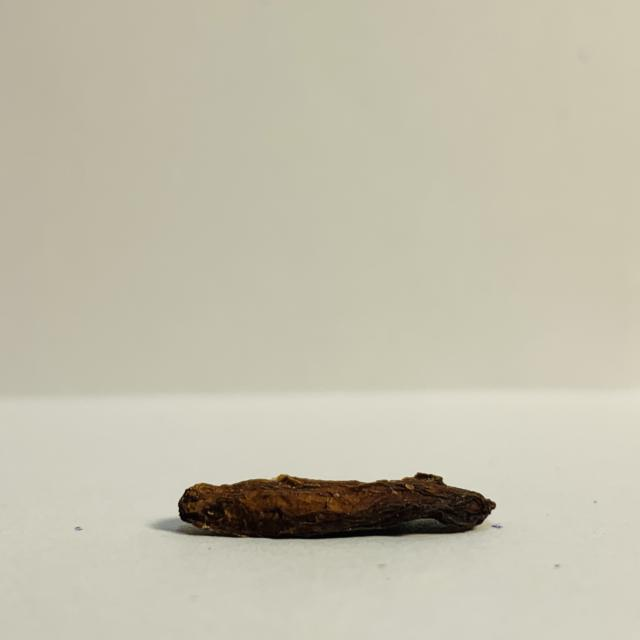Flat_cocoabeans: (109, 400, 525, 578)
